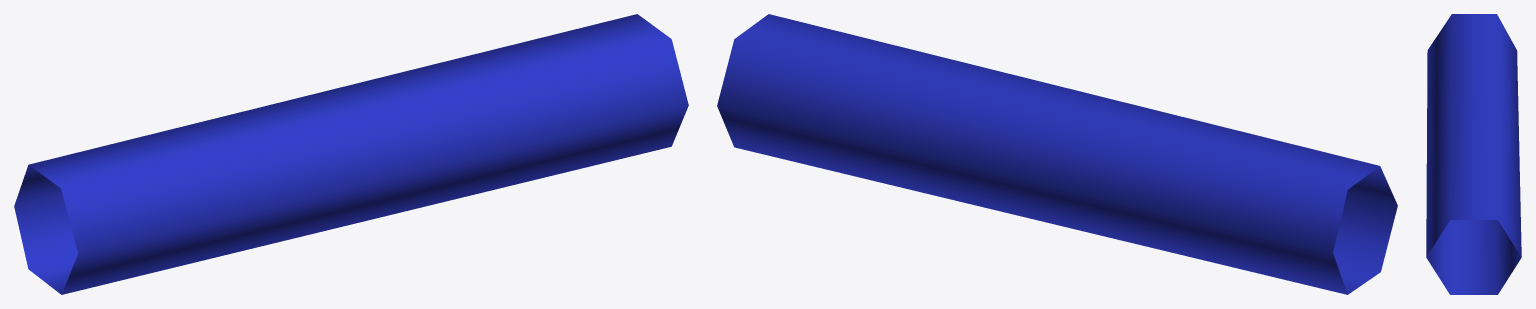
The model's file is Módulo de Cabos 2.fbx.
3 renders of one model, left to right at view 1: azimuth 30°, elevation 25°; view 2: azimuth 150°, elevation 25°; view 3: azimuth 270°, elevation 25°, orthographic. The views are drawn at different scales.
Parts seen in each view (by area): view 1: Cube.001; view 2: Cube.001; view 3: Cube.001.
Boxes of the visible parts, bbox=[...] form: Cube.001: bbox=[14, 14, 688, 294]; Cube.001: bbox=[717, 14, 1397, 294]; Cube.001: bbox=[1426, 14, 1521, 294].
Size of the model in its own units: 539 by 90.99 by 105.
